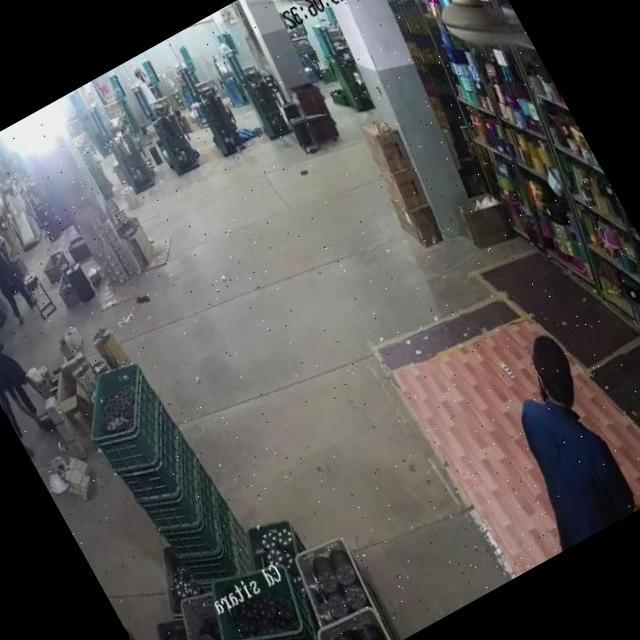person: (461, 328, 640, 554), (0, 335, 63, 458), (0, 202, 43, 327), (127, 65, 163, 115)
